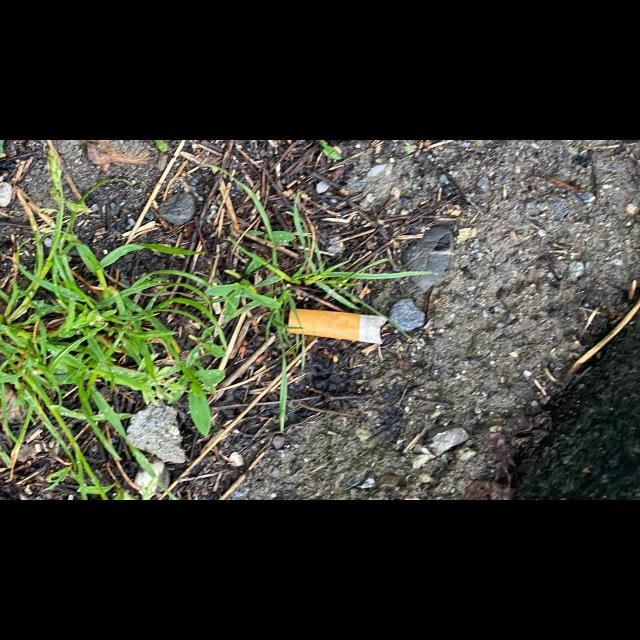cigarette: (286, 307, 388, 345)
